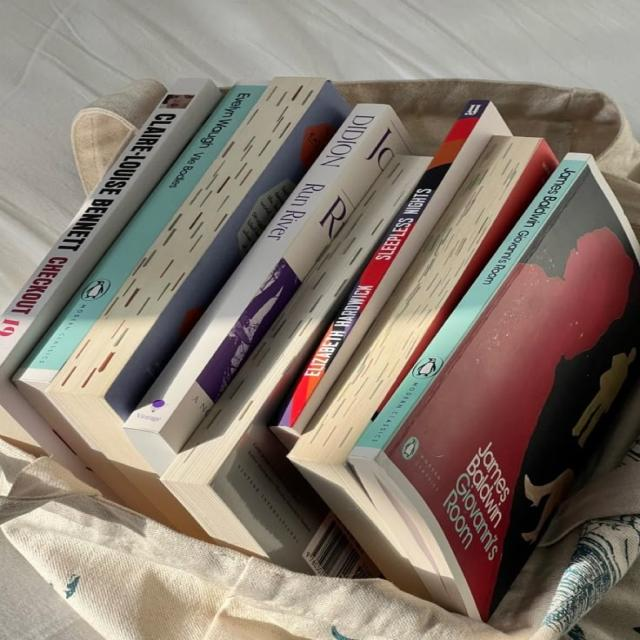book: (127, 107, 387, 433), (344, 154, 604, 461), (23, 85, 267, 379), (277, 99, 487, 431)
